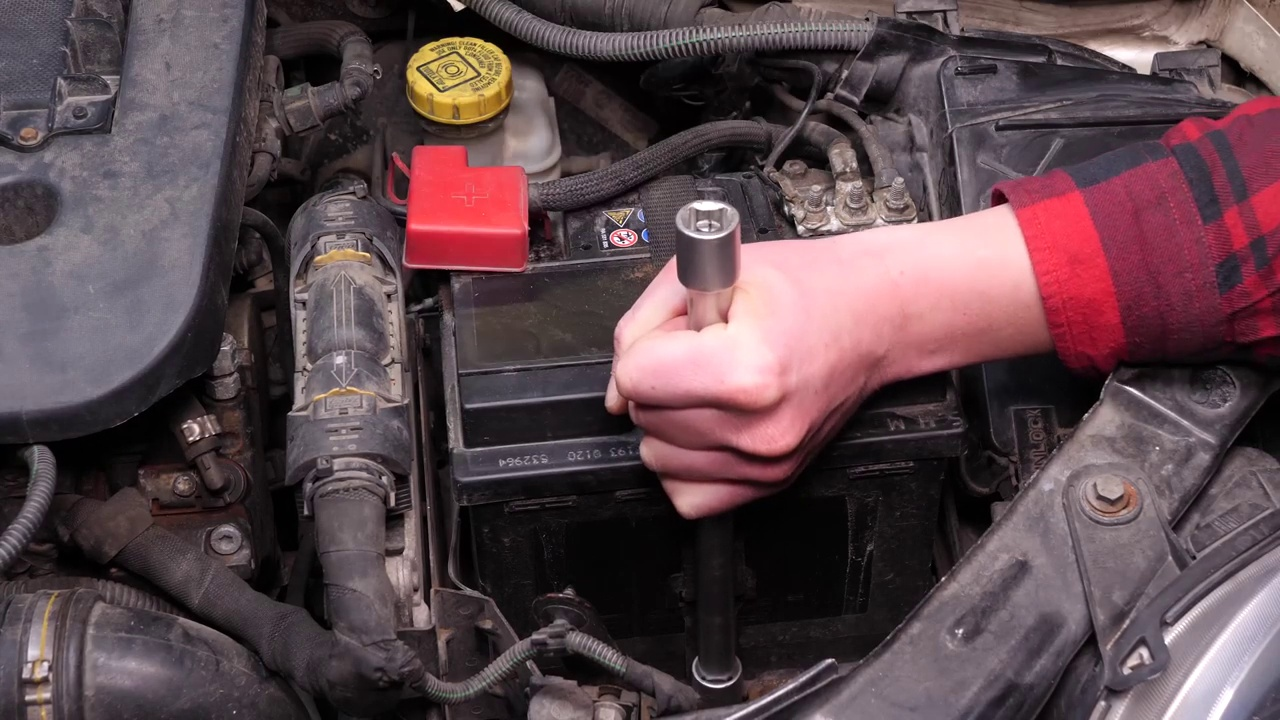battery: (405, 160, 973, 454)
neg_connected: (748, 135, 929, 237)
neg_touched: (770, 159, 968, 343)
pos_connected: (380, 133, 534, 283)
